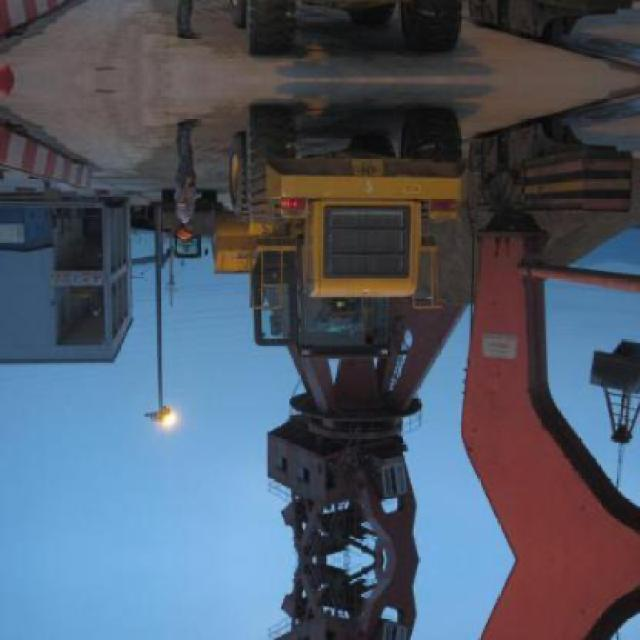con casco: (150, 213, 216, 257)
